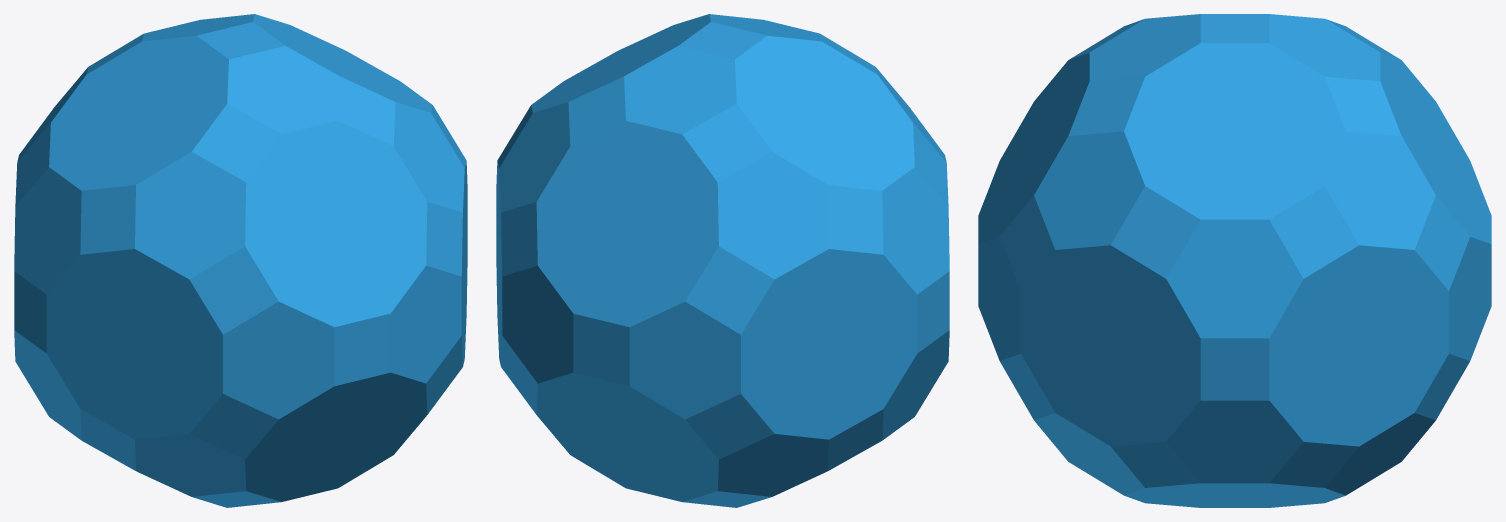
File: truncatedicosidodecahedron.gltf
The picture shows the model from 3 angles, left to right: view 1: azimuth 30°, elevation 25°; view 2: azimuth 150°, elevation 25°; view 3: azimuth 270°, elevation 25°; orthographic projection. The views are drawn at different scales.
Visible parts, largest first — view 1: Solid.002; view 2: Solid.002; view 3: Solid.002.
Part boxes in pixels (x1,y1,x2,y2): Solid.002: [14, 14, 467, 507]; Solid.002: [496, 14, 949, 507]; Solid.002: [978, 14, 1491, 507].
Bounding box in the file's own units: 1.62 × 1.62 × 1.62.
